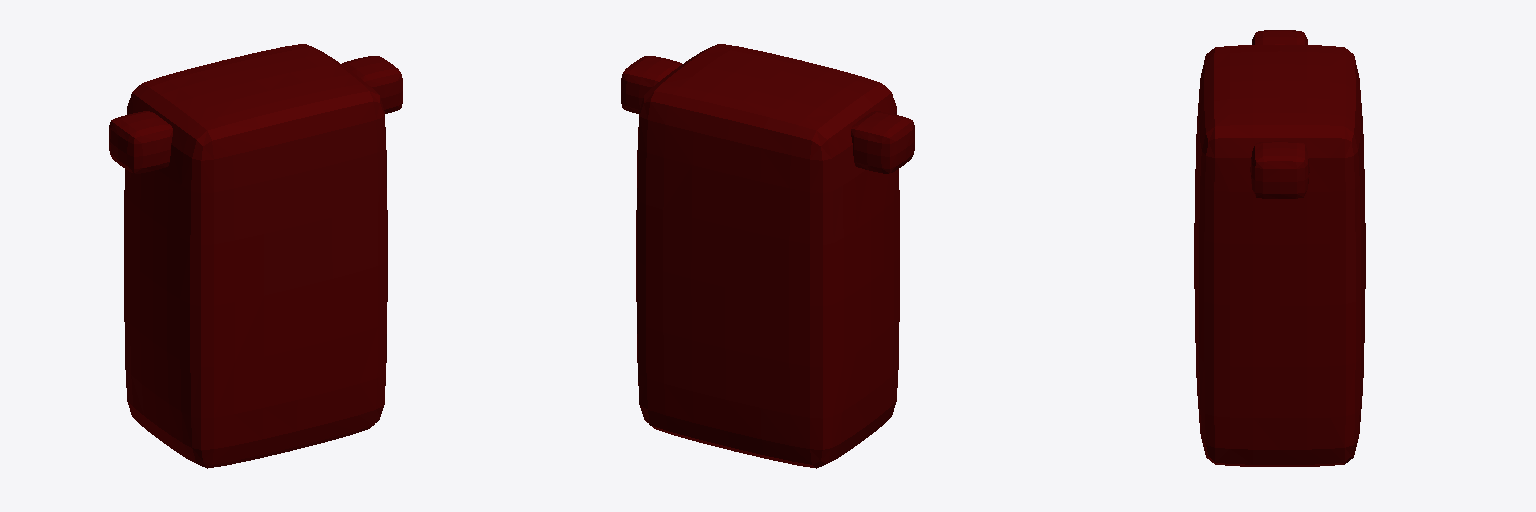
Rendered from body.obj.
3 views of the same model, side by side, from view 1: azimuth 30°, elevation 25°; view 2: azimuth 150°, elevation 25°; view 3: azimuth 270°, elevation 25° (orthographic).
Parts seen in each view (by area): view 1: polySurface2 polySurface6, polySurface2 polySurface4, polySurface3 polySurface2; view 2: polySurface2 polySurface6, polySurface2 polySurface4, polySurface3 polySurface2; view 3: polySurface2 polySurface6, polySurface3 polySurface2, polySurface2 polySurface4.
Part boxes in pixels (bbox=[...]): polySurface2 polySurface6: bbox=[124, 44, 387, 468]; polySurface2 polySurface4: bbox=[109, 111, 172, 173]; polySurface3 polySurface2: bbox=[342, 56, 402, 113]; polySurface2 polySurface6: bbox=[636, 44, 899, 468]; polySurface2 polySurface4: bbox=[851, 111, 914, 173]; polySurface3 polySurface2: bbox=[621, 56, 681, 113]; polySurface2 polySurface6: bbox=[1194, 45, 1365, 466]; polySurface3 polySurface2: bbox=[1250, 141, 1309, 198]; polySurface2 polySurface4: bbox=[1252, 30, 1307, 44].
Size of the model in its own units: 3.75 by 4.55 by 2.01.